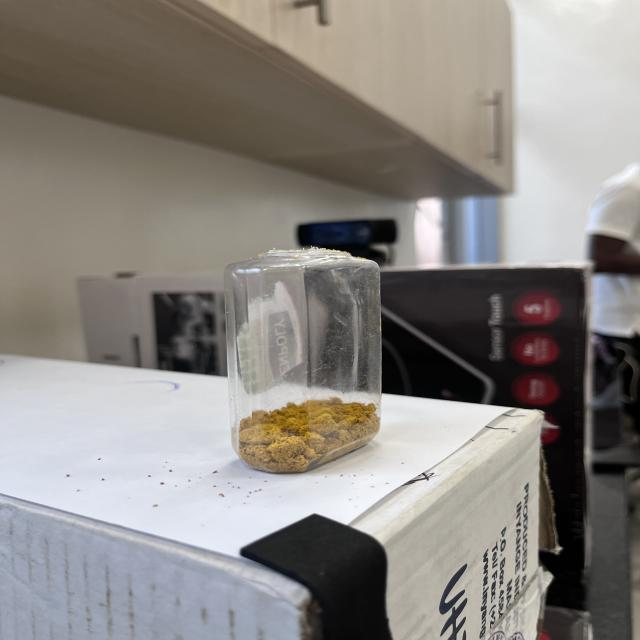curry_powder: (235, 397, 378, 477)
